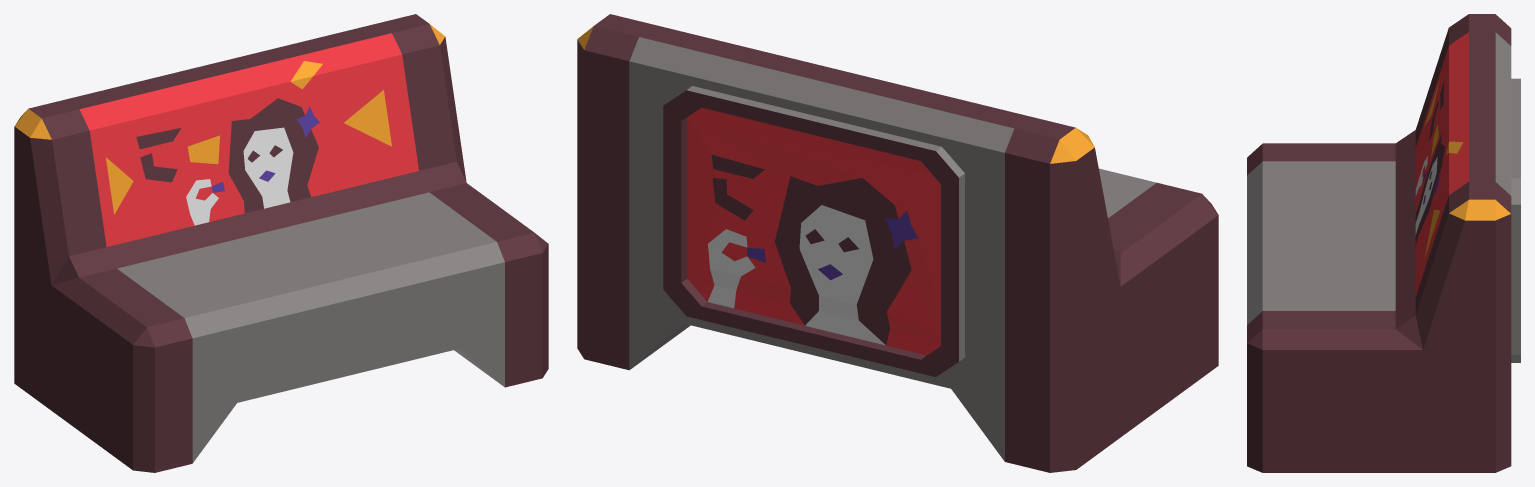
The model's file is scifi-bench-c.fbx.
3 views of the same model, side by side, from view 1: azimuth 30°, elevation 25°; view 2: azimuth 150°, elevation 25°; view 3: azimuth 270°, elevation 25° (orthographic). The views are drawn at different scales.
Visible parts, largest first — view 1: scifi-bench-c; view 2: scifi-bench-c; view 3: scifi-bench-c.
Boxes of the visible parts, box(x1,y1,x2,y2) form: scifi-bench-c: box(14, 14, 548, 472); scifi-bench-c: box(577, 14, 1218, 472); scifi-bench-c: box(1247, 14, 1520, 472).
Size of the model in its own units: 1.65 by 1.03 by 0.9581.
